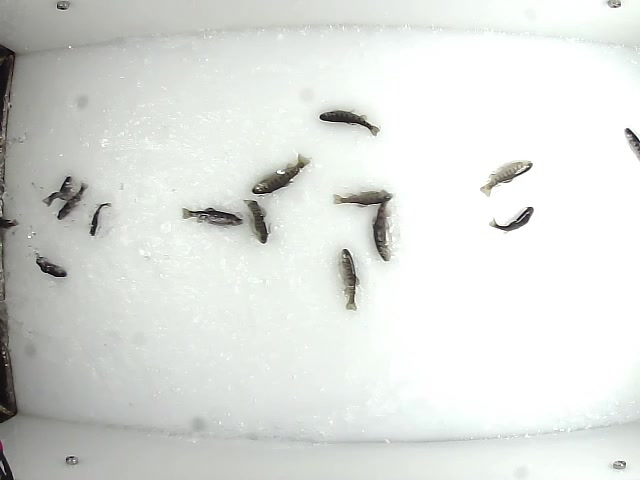fish: (247, 152, 313, 196), (478, 157, 533, 200), (316, 108, 381, 138), (371, 192, 397, 263), (53, 181, 89, 222), (338, 247, 360, 313), (241, 196, 270, 245), (330, 186, 396, 207), (181, 207, 243, 228), (488, 205, 536, 232), (30, 249, 71, 279), (41, 171, 74, 208), (87, 200, 113, 239)
